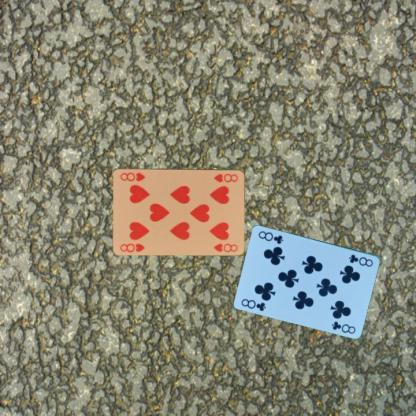8c: (346, 251, 375, 268), (238, 296, 268, 312)
8h: (118, 240, 146, 254), (212, 171, 239, 183)
